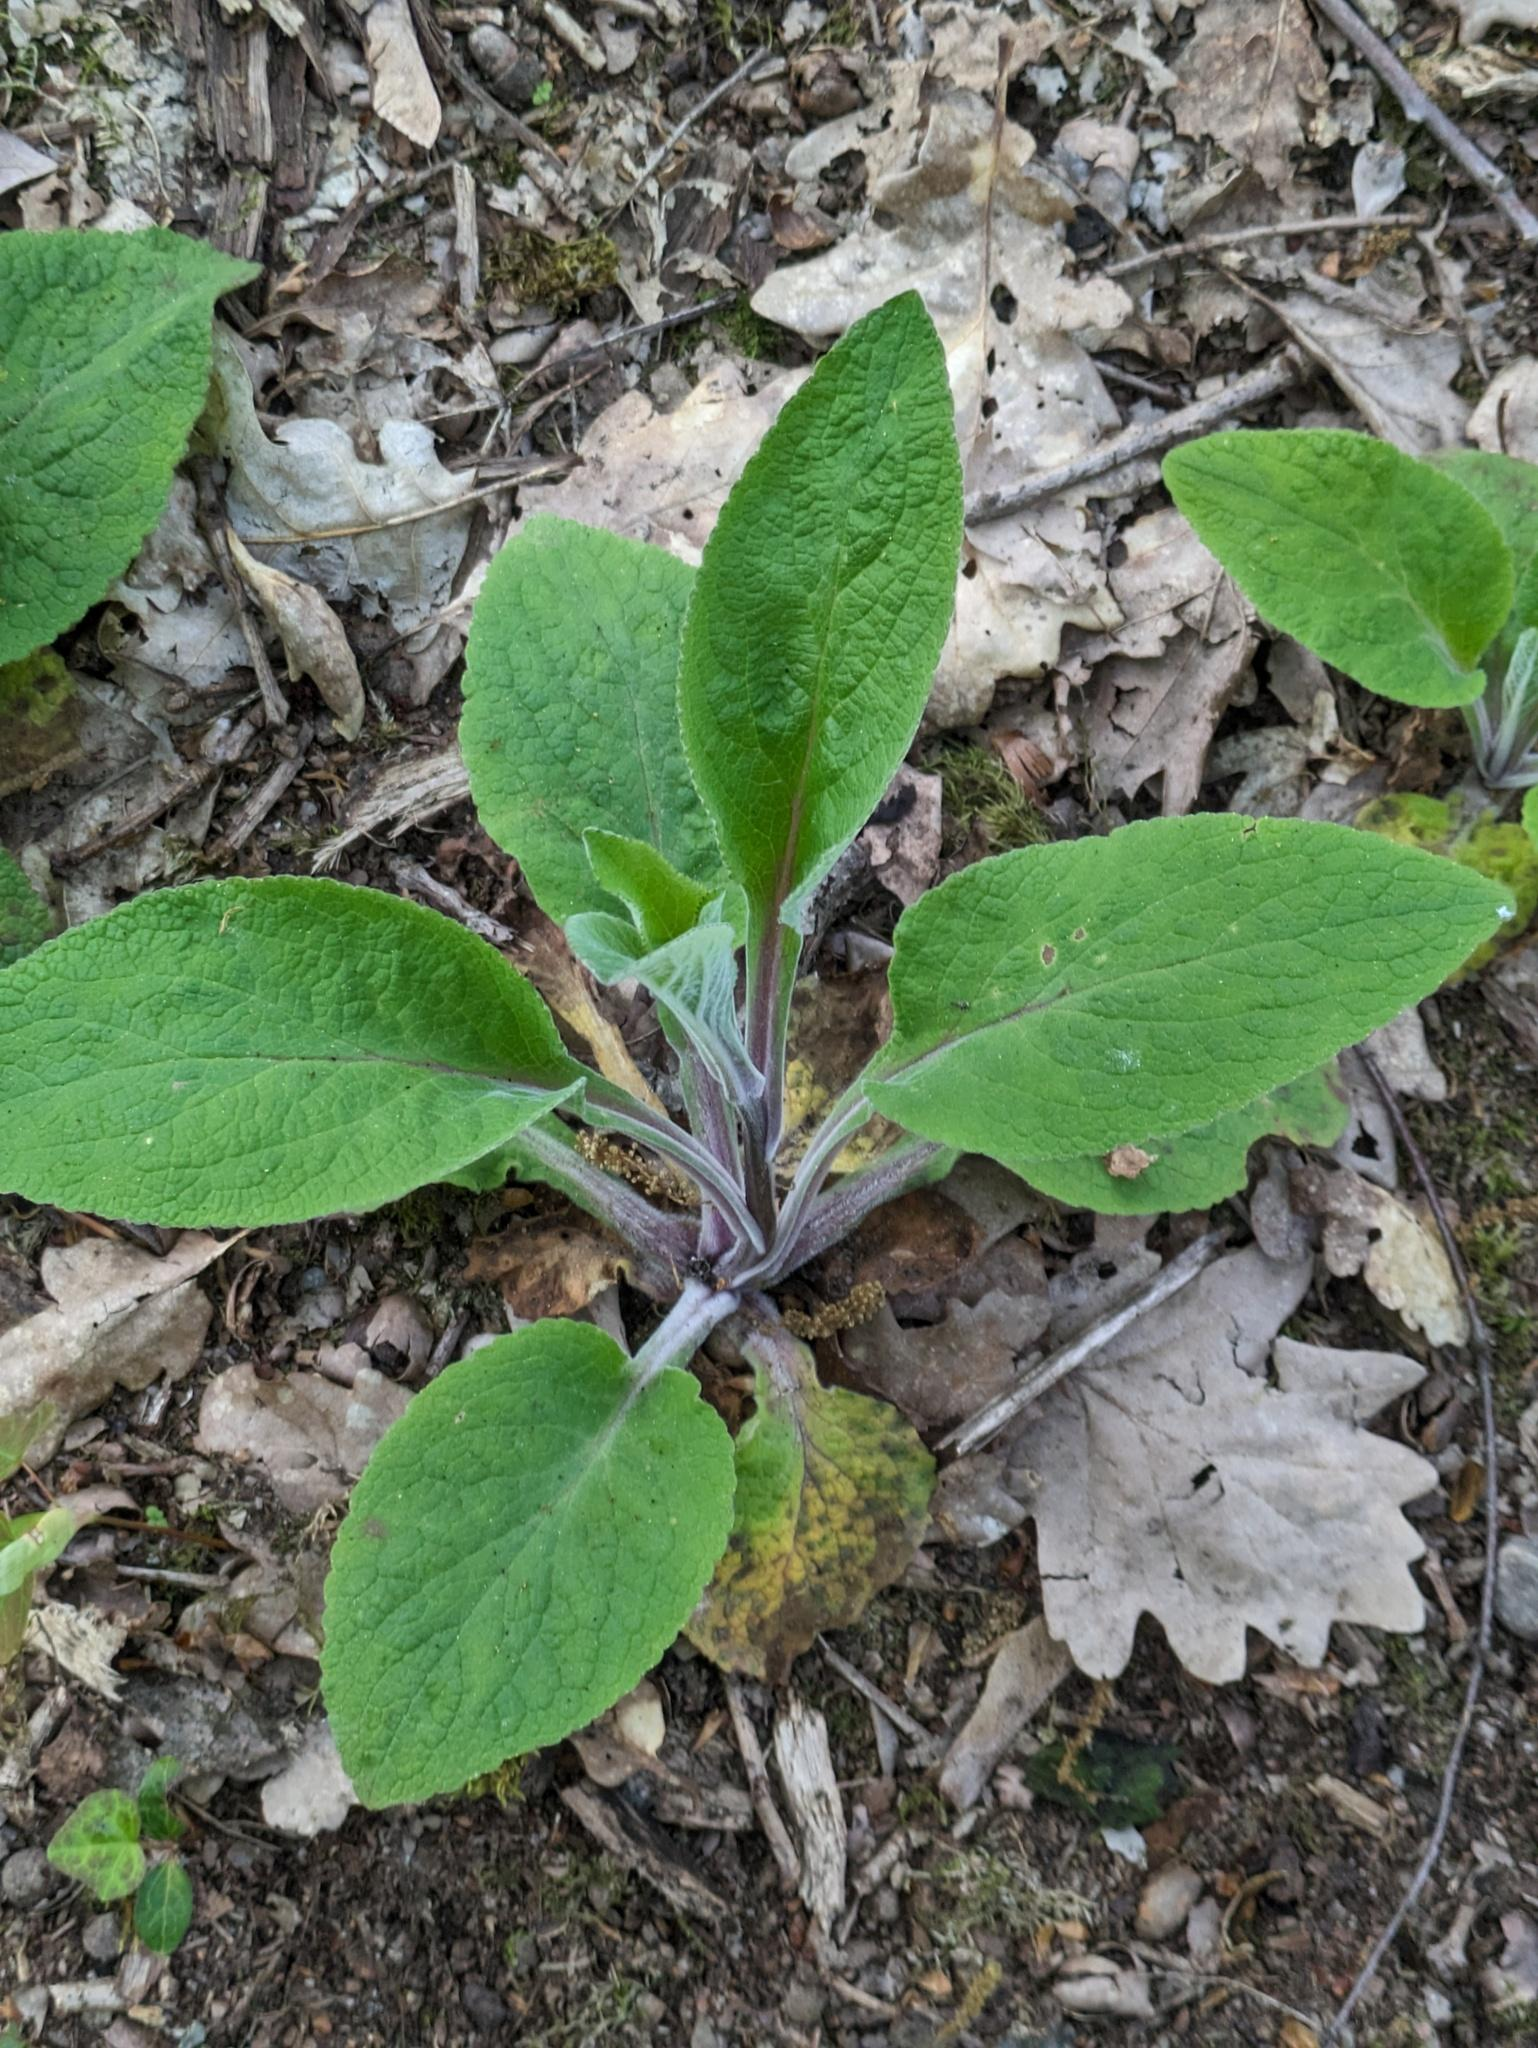Digitalis L: (15, 286, 1523, 1793)
